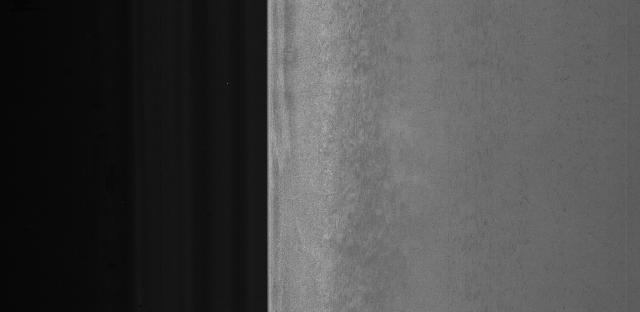silk_spot: (335, 59, 429, 286)
